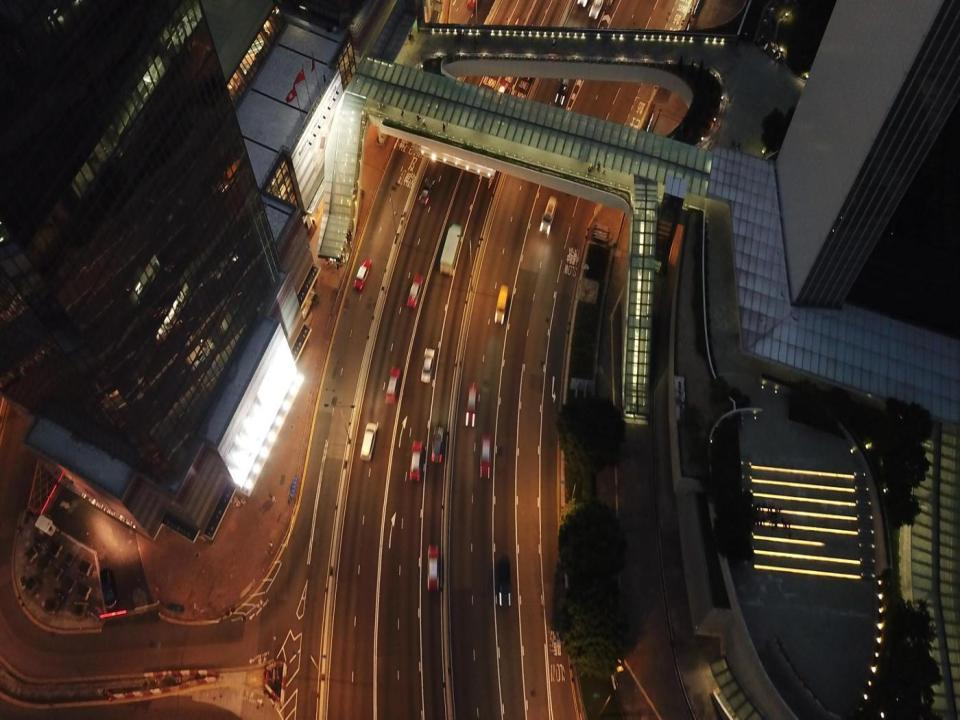car: (494, 555, 512, 606), (100, 568, 119, 608), (384, 366, 401, 404), (426, 546, 440, 591), (554, 72, 572, 106), (354, 258, 371, 291), (408, 440, 422, 480), (464, 384, 477, 426), (479, 437, 492, 478), (406, 275, 422, 308), (420, 348, 435, 383), (431, 426, 444, 463), (418, 177, 434, 205), (494, 80, 509, 104), (587, 0, 604, 18)
truck: (439, 224, 463, 275)
van: (539, 195, 557, 236), (493, 284, 510, 324), (360, 422, 376, 462)
